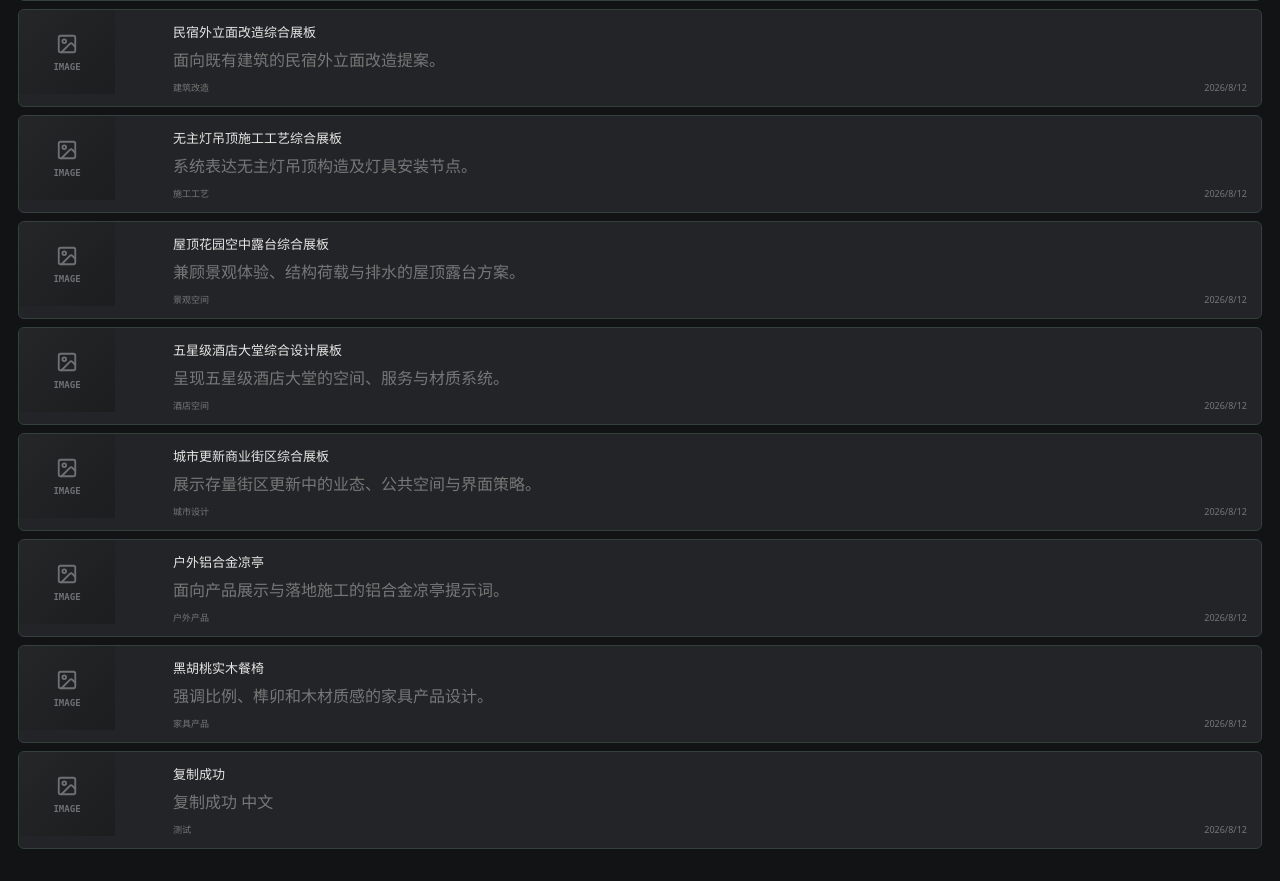
Test case: LibraryPage › reflects a successful copy on the matching language button
(page scrolled)
Click the button with aria-label "打开复制成功" at (67, 794), box [18,751,1262,849]
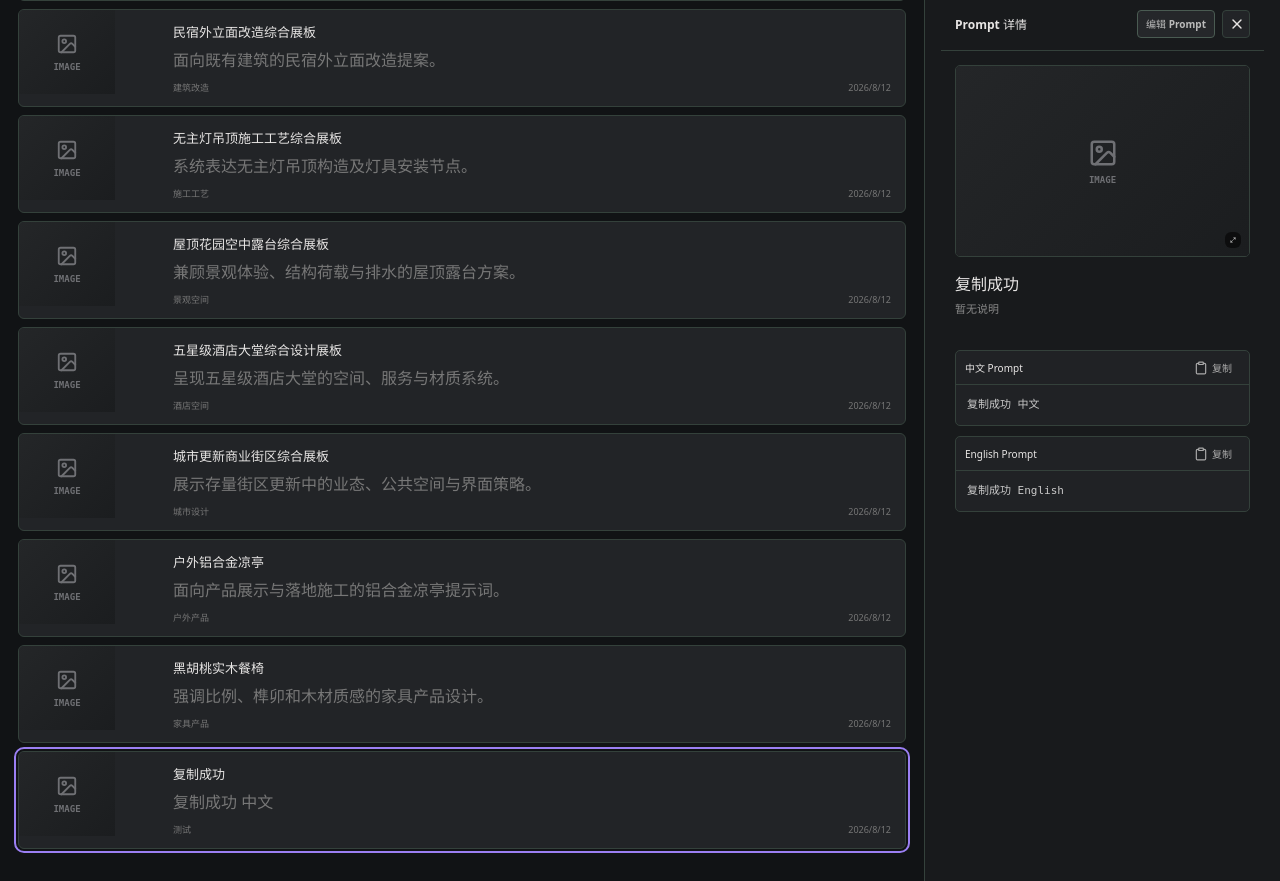
Click the button with aria-label "复制中文 Prompt" at (1213, 368), box [1186,354,1240,380]
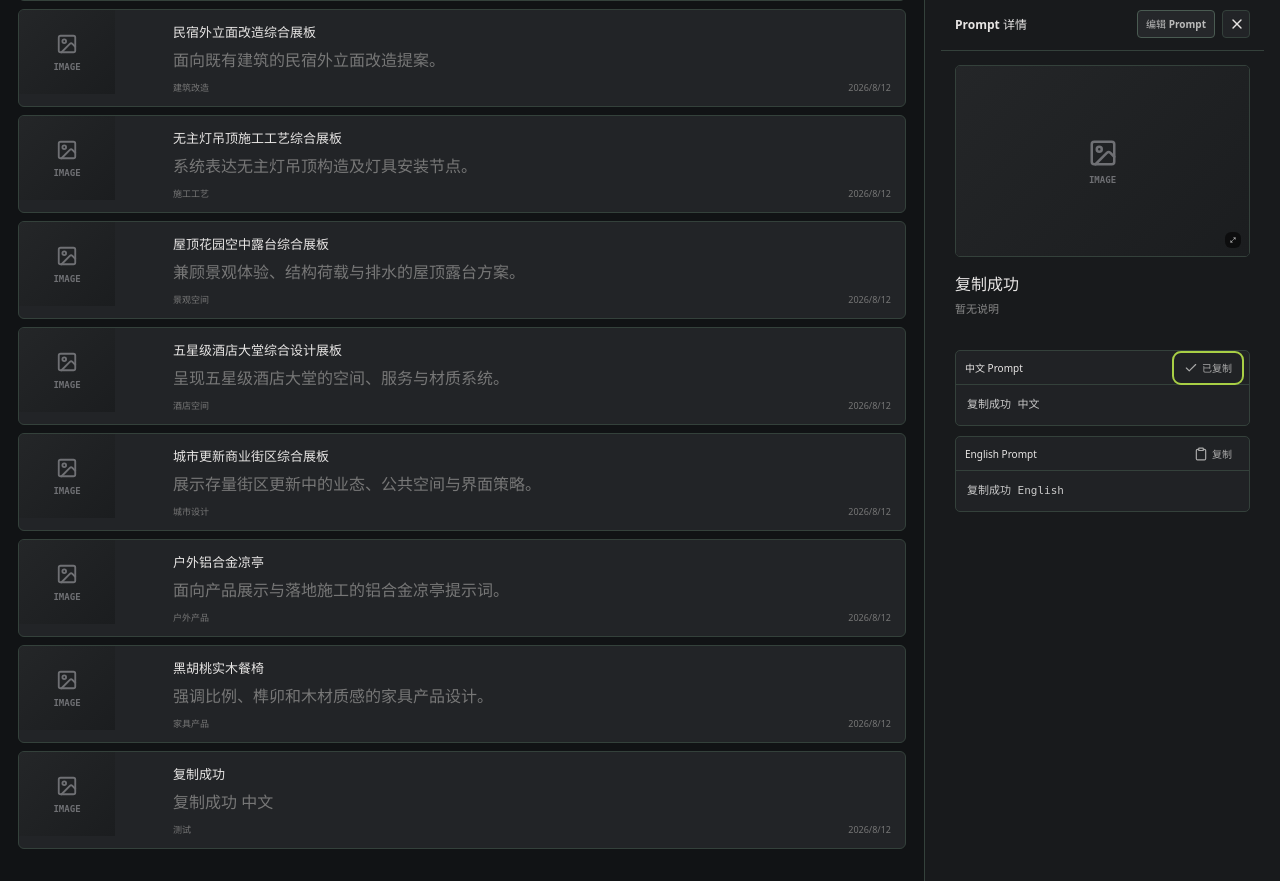
expect the button with aria-label "复制中文 Prompt" reads "已复制": met, box [1176,354,1240,380]
